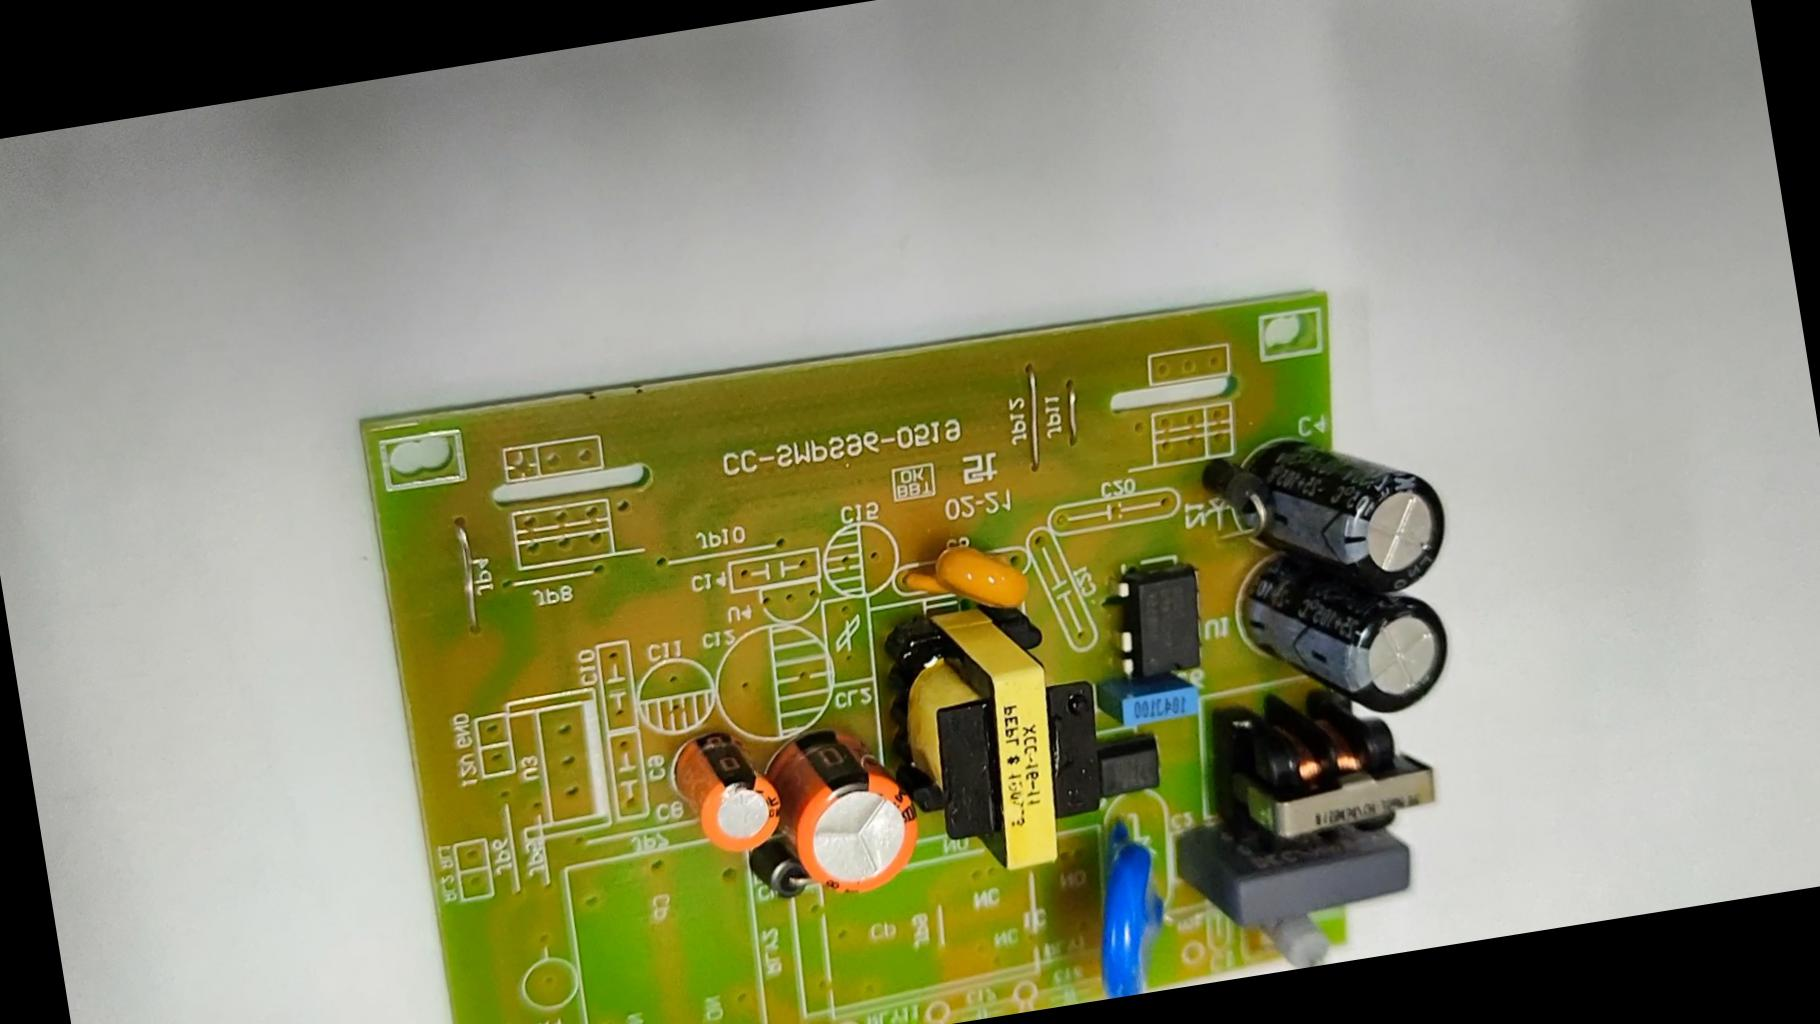Cap1: (774, 706, 929, 908)
Cap2: (670, 719, 785, 864)
Cap3: (1236, 541, 1462, 738)
Cap4: (1227, 416, 1460, 613)
MOSFET: (1096, 541, 1219, 683)
Mov: (1069, 800, 1201, 999)
Resistor: (1255, 905, 1352, 974)
Transformer: (891, 586, 1087, 889), (1211, 686, 1455, 854)
